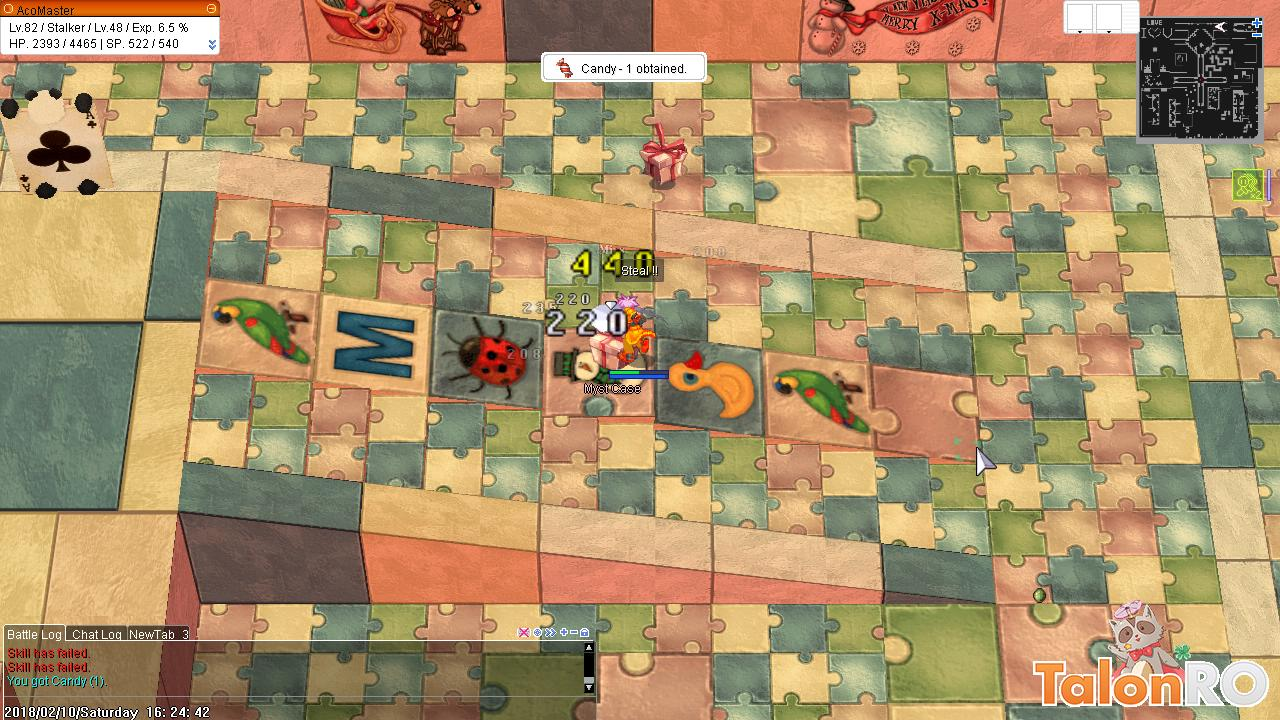myst_case: (635, 119, 689, 192), (588, 329, 629, 366)
